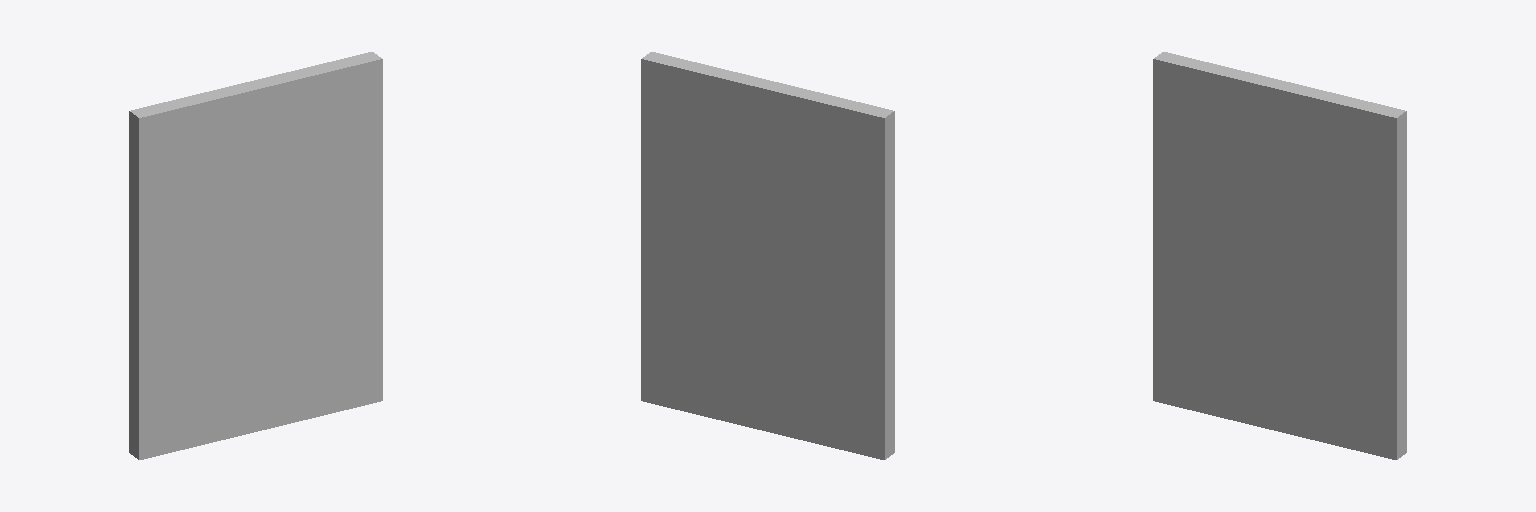
Rendered from grassplot.obj.
The picture shows the model from 3 angles: view 1: azimuth 30°, elevation 25°; view 2: azimuth 150°, elevation 25°; view 3: azimuth 330°, elevation 25°; orthographic projection.
Visible parts, largest first — view 1: Cube; view 2: Cube; view 3: Cube.
Boxes of the visible parts, <box> form: Cube: <box>129,52,382,459</box>; Cube: <box>641,52,894,459</box>; Cube: <box>1153,52,1406,459</box>.
Bounding box in the file's own units: 6.85 × 9.21 × 0.4926.